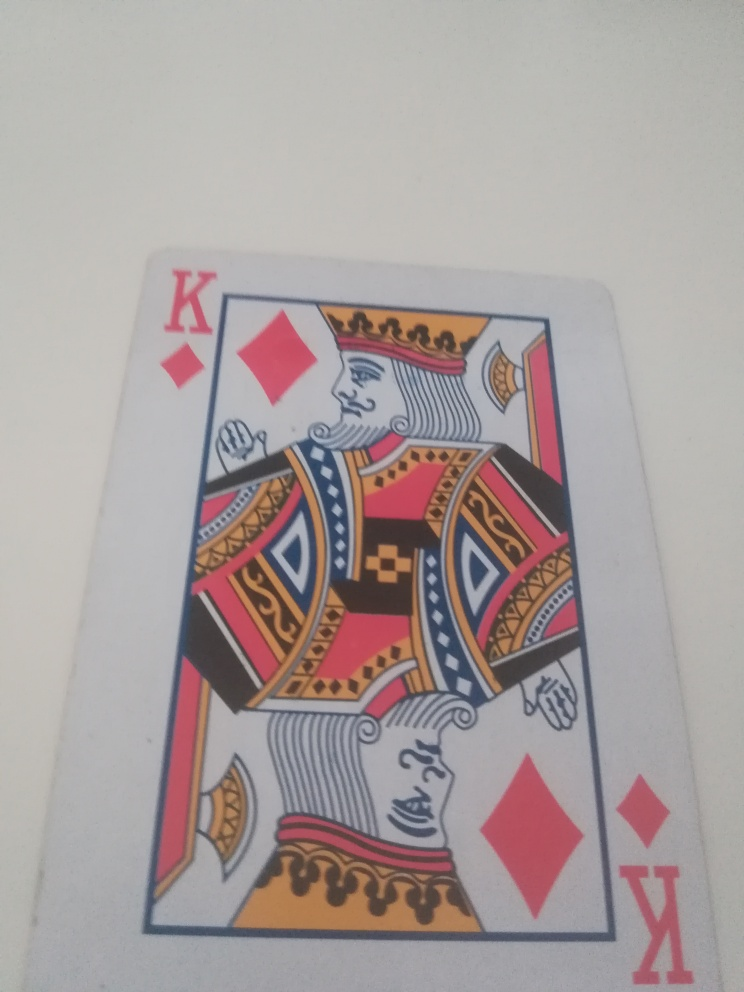KD: (153, 261, 222, 397)
